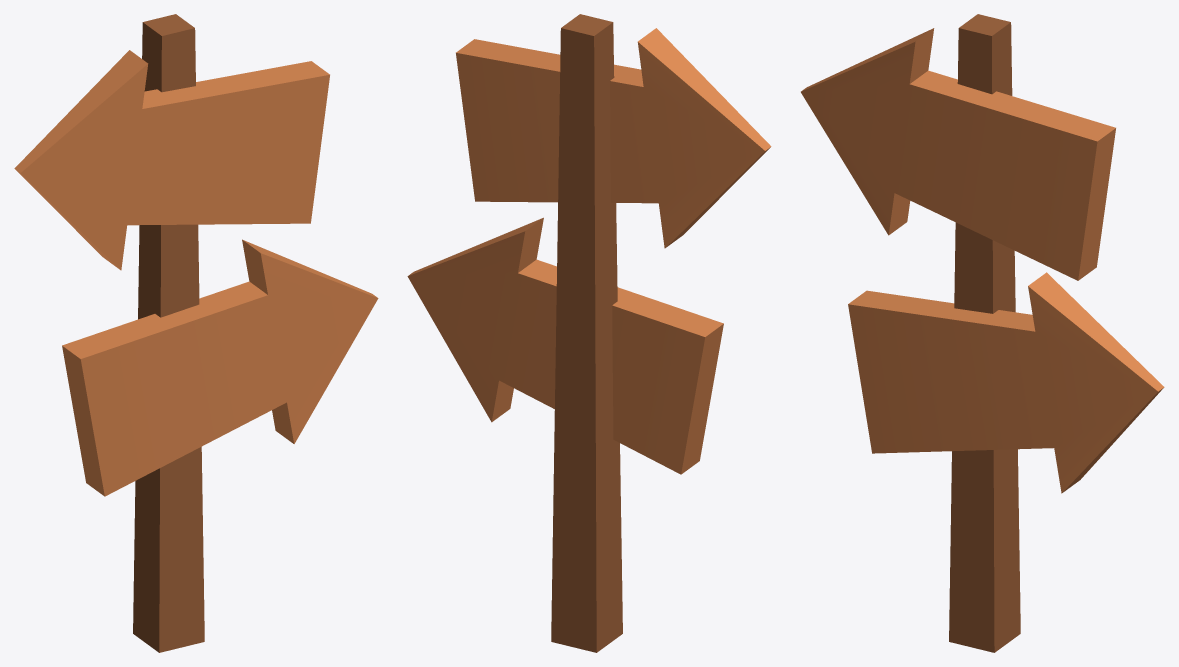
File: arrows.fbx
3 views of the same model, side by side, from view 1: azimuth 30°, elevation 25°; view 2: azimuth 150°, elevation 25°; view 3: azimuth 330°, elevation 25° (orthographic).
Visible parts, largest first — view 1: arrows; view 2: arrows; view 3: arrows.
Part boxes in pixels (box(x1,y1,x2,y2)): arrows: box(14, 14, 378, 652); arrows: box(407, 14, 771, 652); arrows: box(801, 14, 1164, 652).
Bounding box in the file's own units: 5.5 × 9 × 0.9984.
